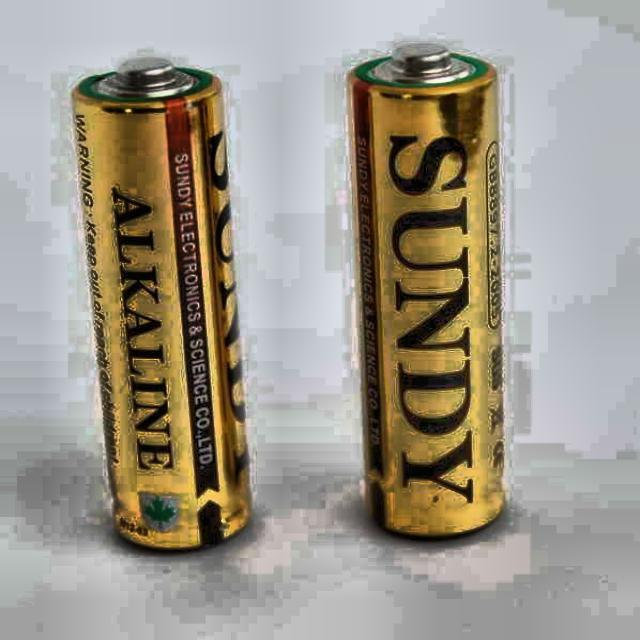battery: (73, 58, 250, 549), (348, 44, 505, 537)
